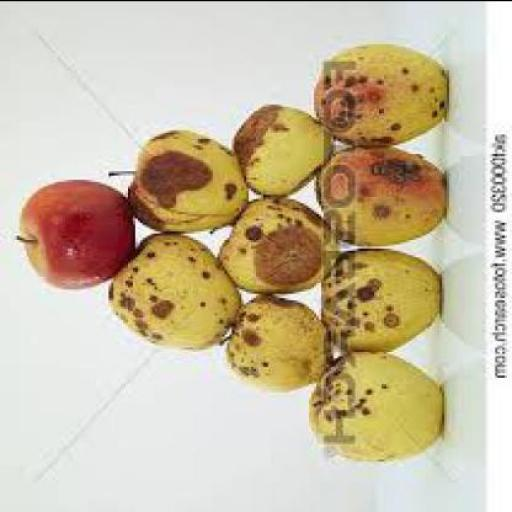biodegradable: (109, 228, 239, 346), (104, 125, 244, 228), (309, 346, 439, 456), (311, 140, 447, 243), (309, 41, 444, 142), (12, 176, 133, 284), (319, 245, 442, 348), (215, 192, 333, 288), (217, 292, 328, 387), (232, 101, 328, 193)
